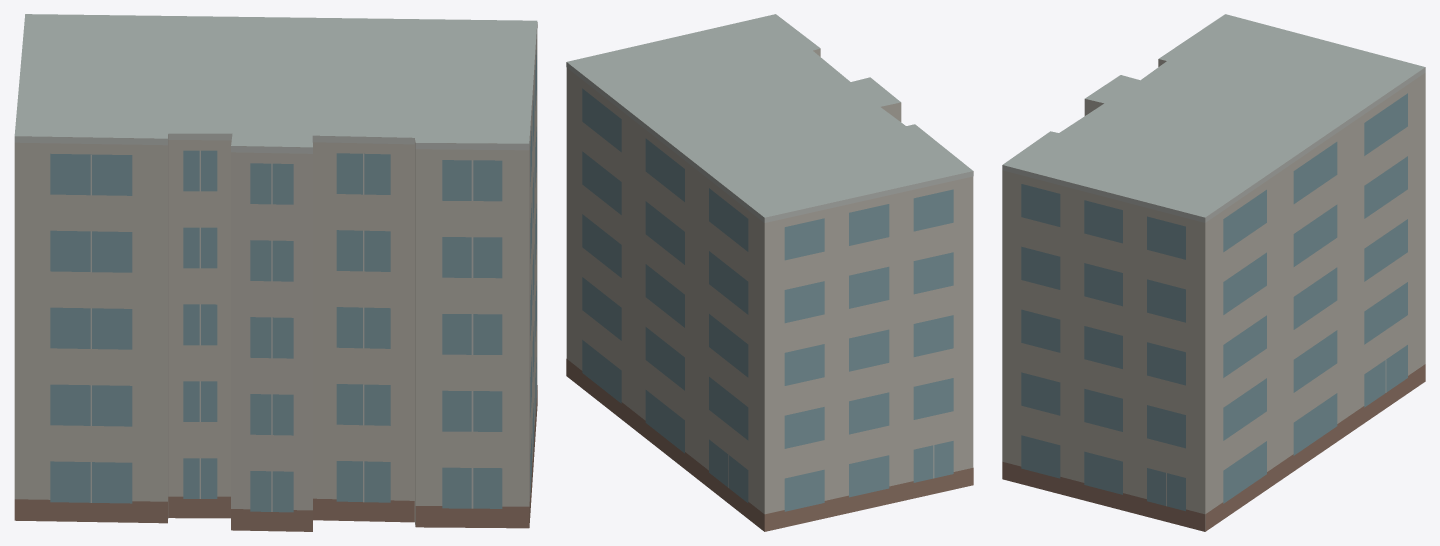
File: survey-upis-32687110.glb
3 renders of one model, left to right at view 1: azimuth 30°, elevation 25°; view 2: azimuth 150°, elevation 25°; view 3: azimuth 270°, elevation 25°, orthographic. The views are drawn at different scales.
Visible parts, largest first — view 1: survey-upis-32687110.tmp; view 2: survey-upis-32687110.tmp; view 3: survey-upis-32687110.tmp.
Boxes of the visible parts, box(x1,y1,x2,y2) form: survey-upis-32687110.tmp: box(14, 14, 537, 531); survey-upis-32687110.tmp: box(566, 14, 973, 531); survey-upis-32687110.tmp: box(1002, 14, 1425, 531).
Bounding box in the file's own units: 19.88 × 14.3 × 17.46.
